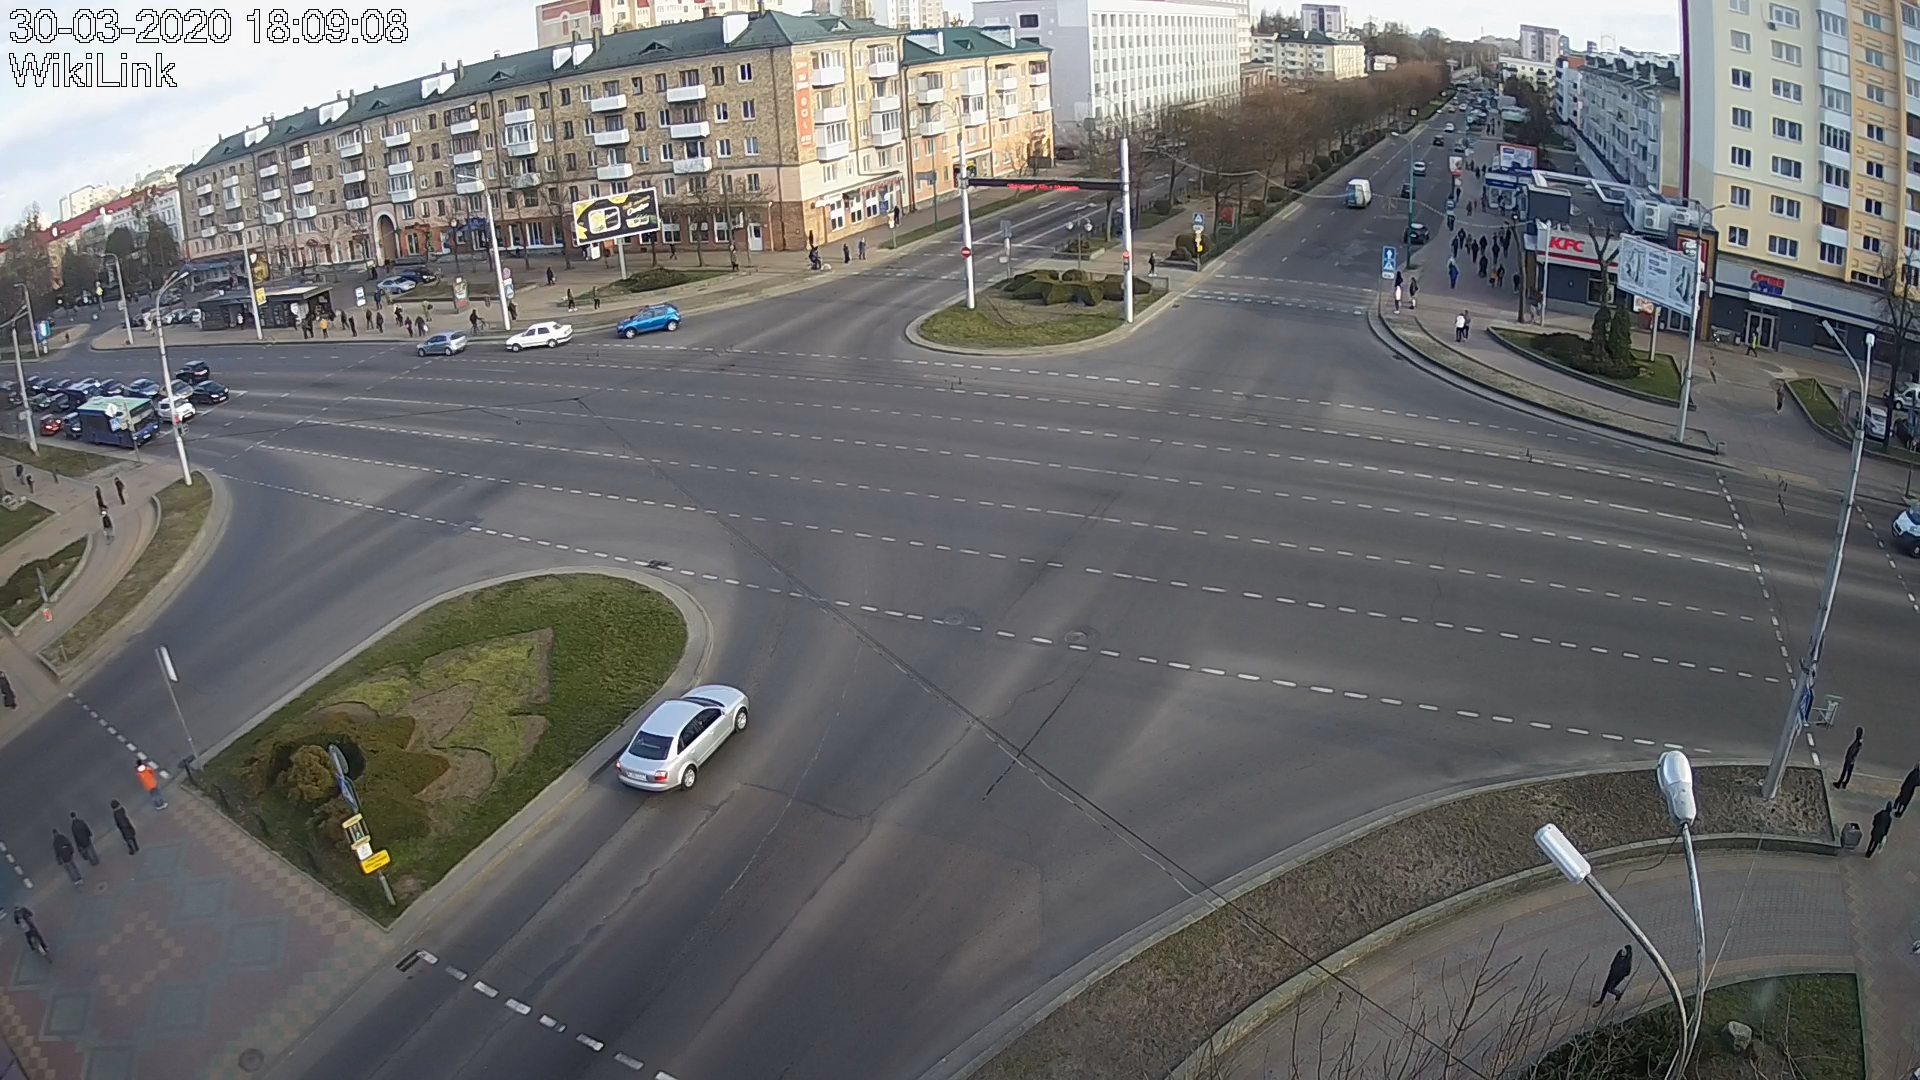bus: (78, 396, 160, 448)
car: (615, 683, 750, 794), (616, 303, 682, 339), (505, 320, 574, 352), (415, 328, 468, 357), (156, 397, 196, 423), (193, 381, 229, 404)
